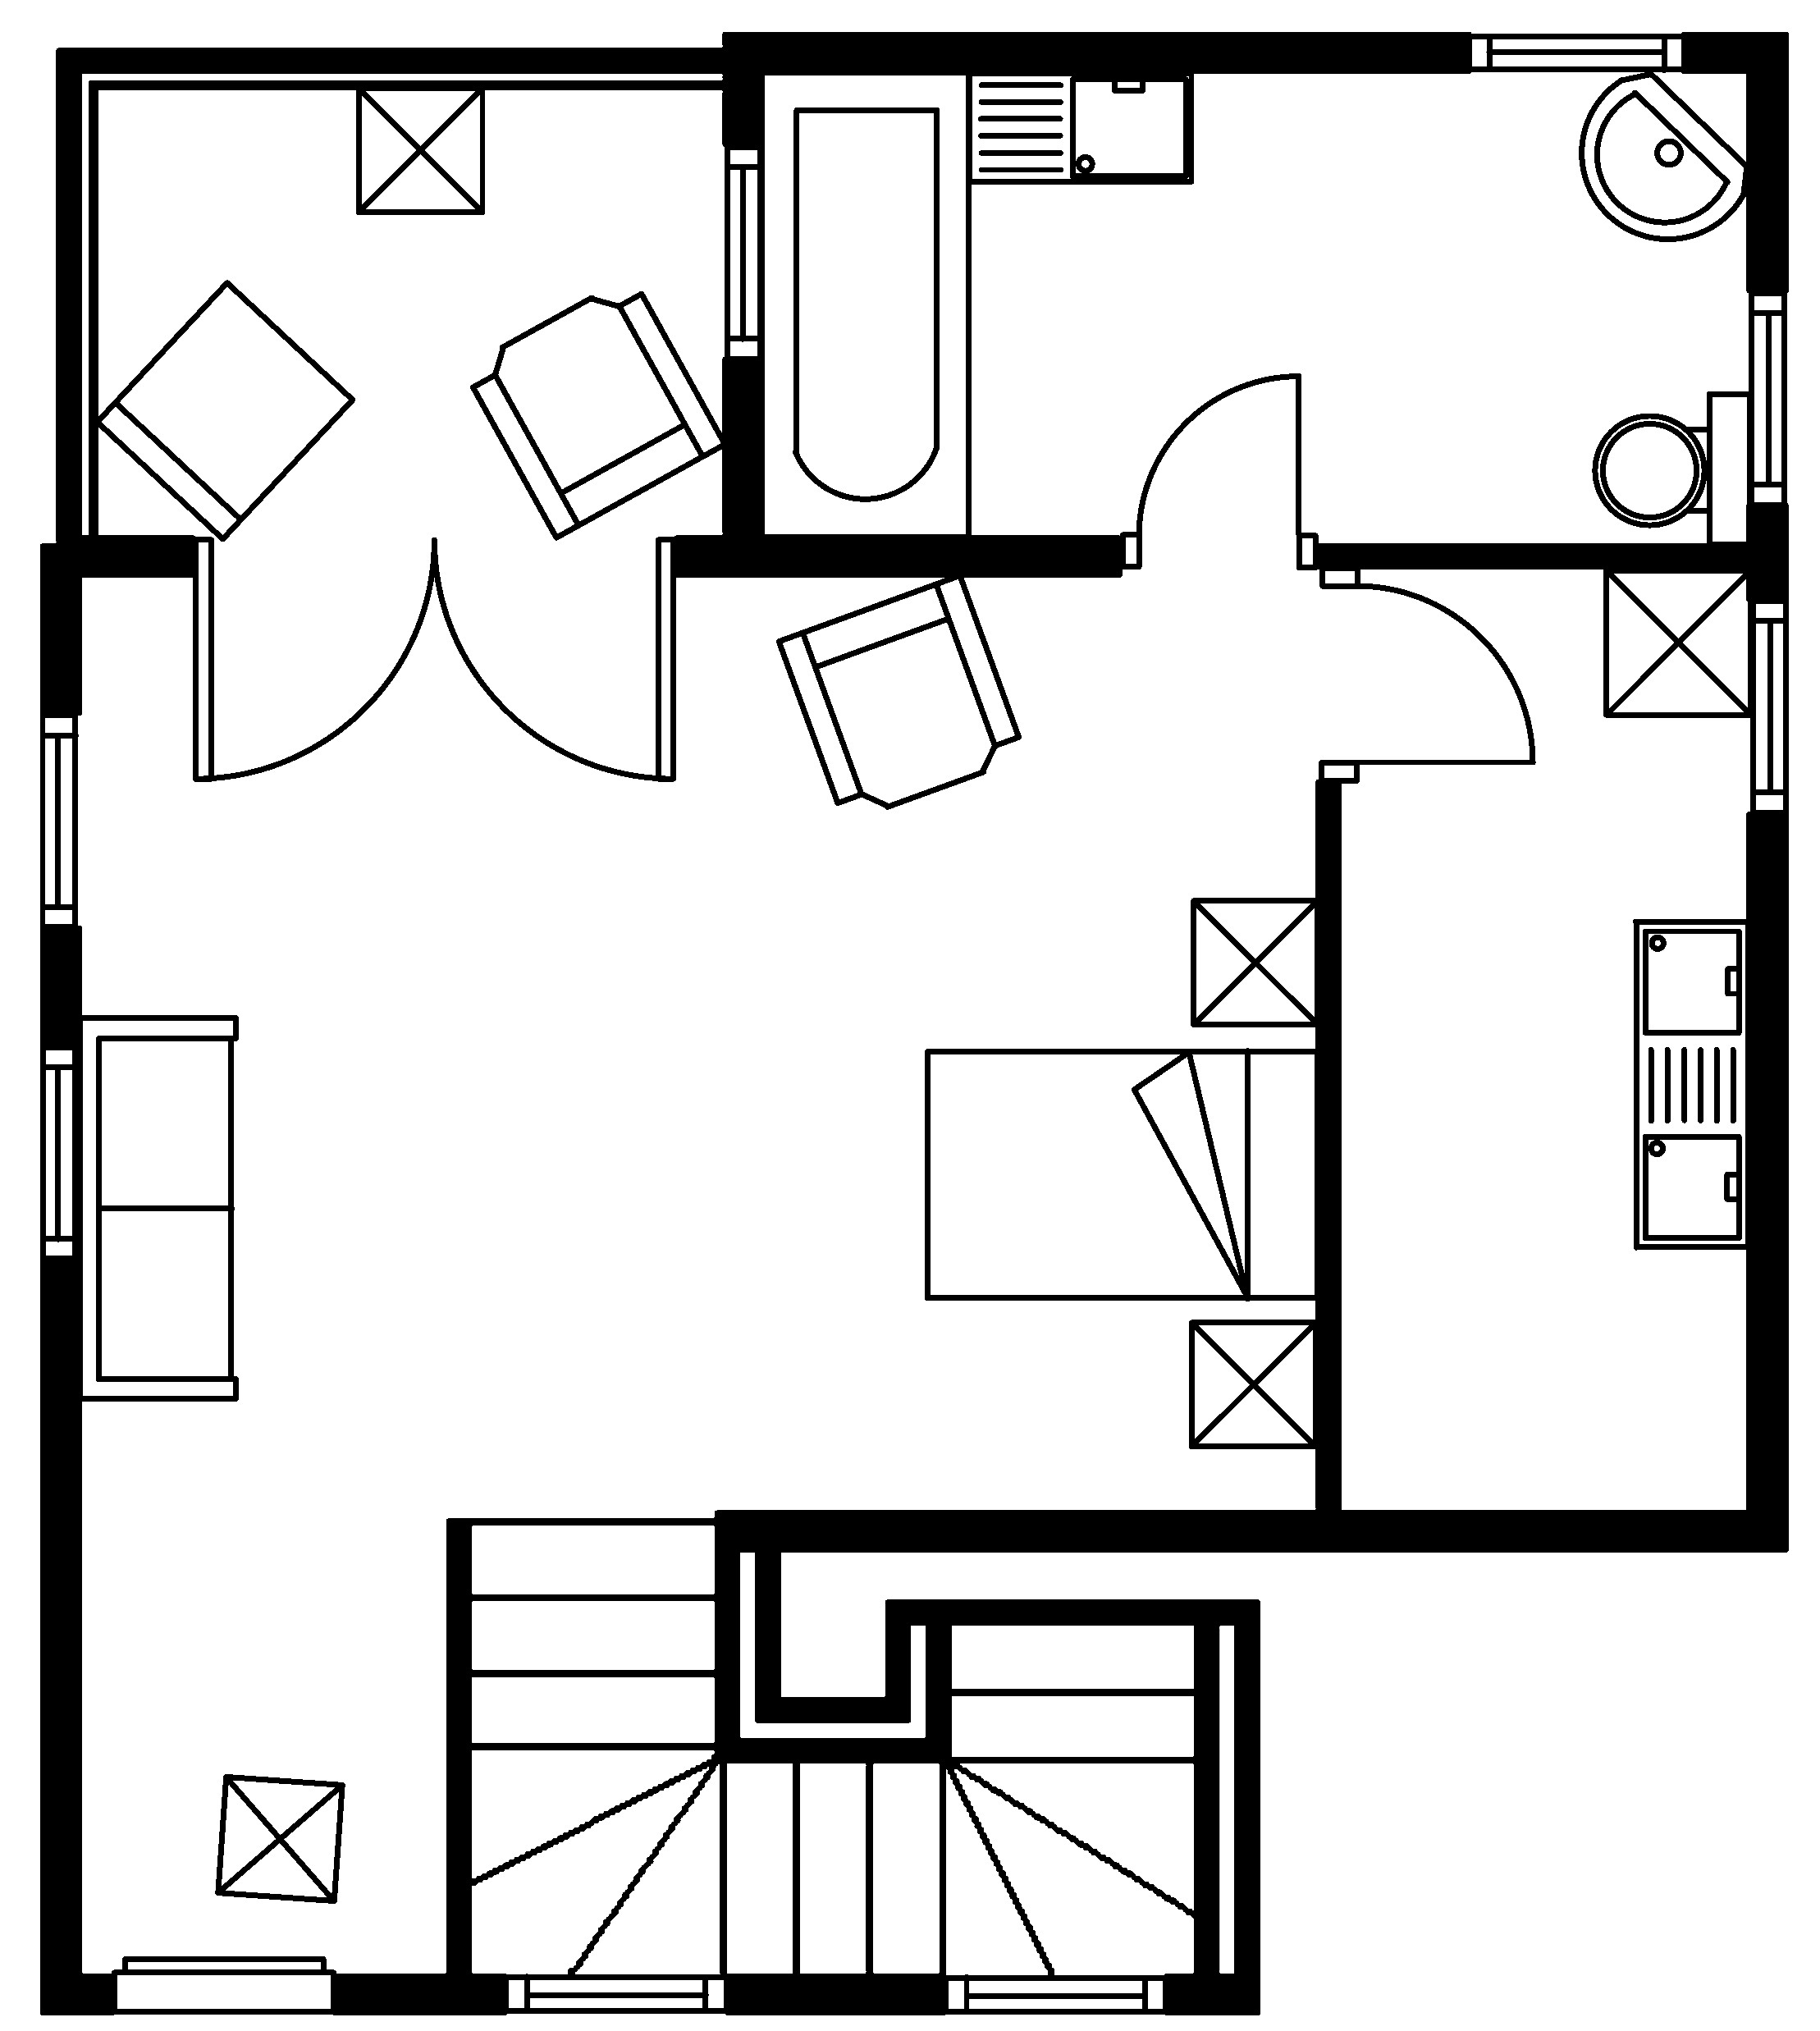armchair: (469, 290, 727, 541), (773, 571, 1022, 810)
bed: (922, 1047, 1321, 1302)
coffee_table: (1602, 566, 1753, 719), (1186, 1318, 1319, 1449), (213, 1773, 346, 1905), (1189, 896, 1321, 1028), (353, 84, 487, 214)
large_sink: (1592, 388, 1753, 548)
large_sofa: (76, 1014, 239, 1402)
sink: (964, 69, 1195, 184)
small_sink: (1578, 70, 1750, 241)
small_sofa: (93, 278, 355, 543)
tub: (757, 69, 971, 539)
twin_sink: (1630, 917, 1751, 1251)
